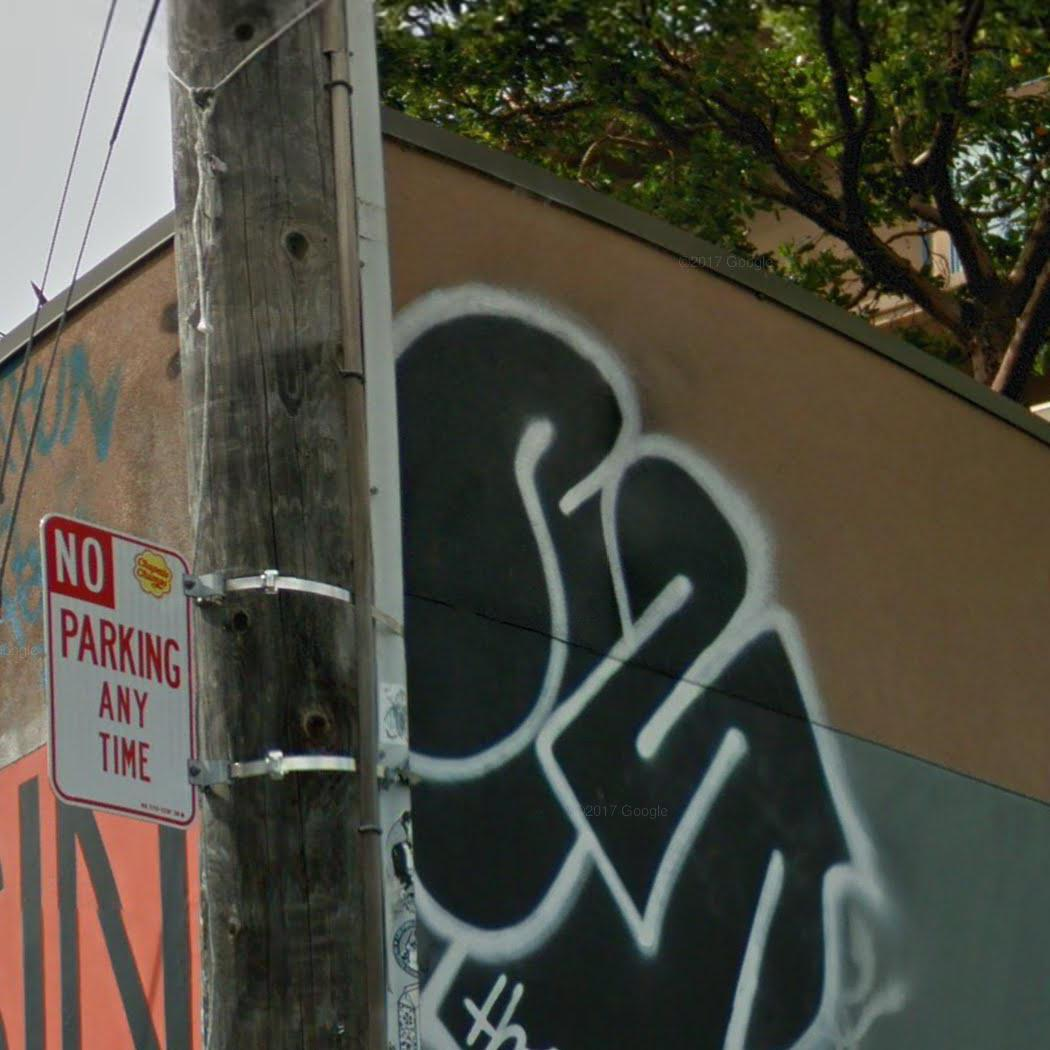No Parking Anytime: (33, 508, 201, 833)
